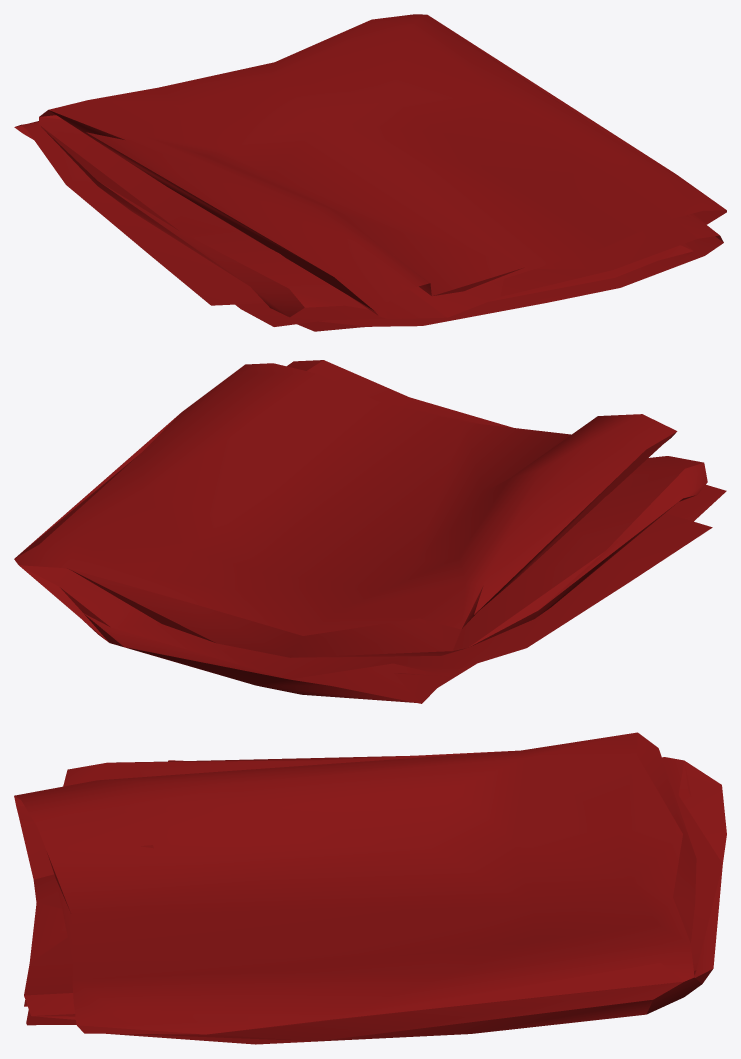
File: Napkin.FBX
3 views of the same model, one above another, from view 1: azimuth 30°, elevation 25°; view 2: azimuth 150°, elevation 25°; view 3: azimuth 270°, elevation 25° (orthographic). The views are drawn at different scales.
Visible parts, largest first — view 1: napkin; view 2: napkin; view 3: napkin.
Part boxes in pixels (<box>): napkin: <box>14,14,726,331</box>; napkin: <box>14,360,726,703</box>; napkin: <box>14,732,726,1044</box>.
Bounding box in the file's own units: 192 × 209 × 29.05.
